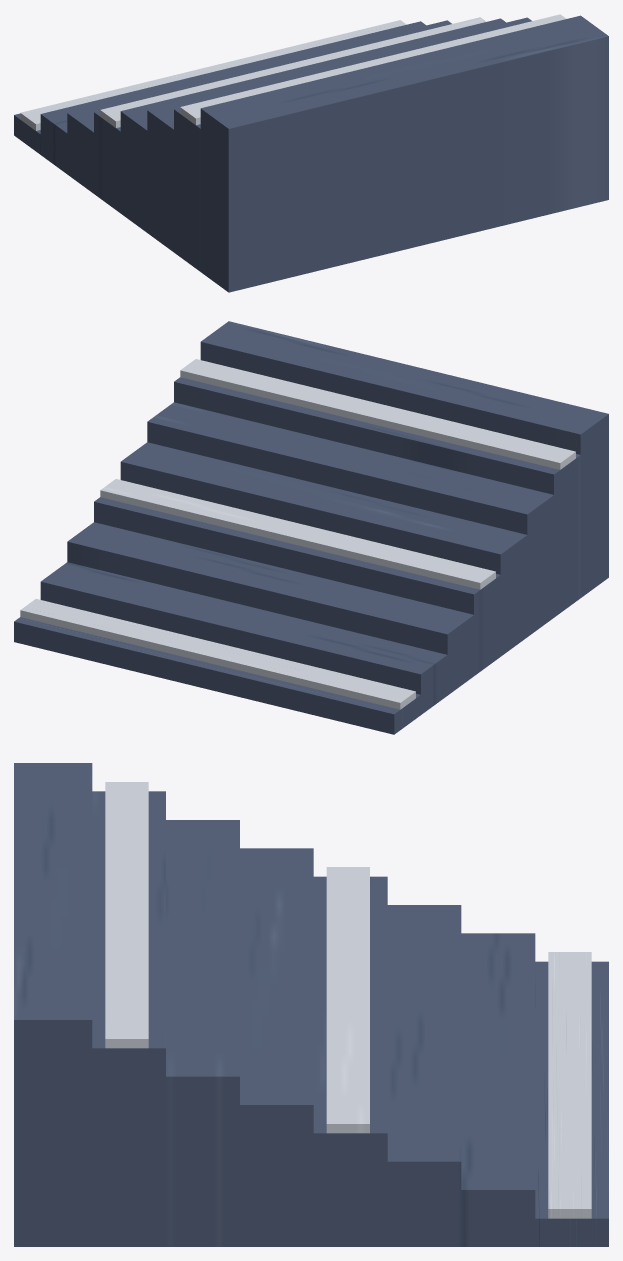
The model's file is snow_stairway_lod1.glb.
The picture shows the model from 3 angles, top to bottom: view 1: azimuth 30°, elevation 25°; view 2: azimuth 150°, elevation 25°; view 3: azimuth 270°, elevation 25°; orthographic projection. The views are drawn at different scales.
Visible parts, largest first — view 1: stone_10, stone_7, stone_6, stone_8, stone_3, stone_2, snow_1, snow_9, snow_5, stone_4, stone_0; view 2: stone_10, stone_7, stone_6, stone_3, stone_2, stone_8, stone_4, stone_0, snow_9, snow_5, snow_1; view 3: stone_10, stone_7, stone_6, stone_3, stone_2, stone_8, stone_4, snow_1, snow_9, snow_5, stone_0.
Part boxes in pixels (x1,y1,x2,y2): stone_10: (200,15,608,292); stone_7: (147,17,531,252); stone_6: (120,18,505,233); stone_8: (174,108,201,272); stone_3: (67,20,451,194); stone_2: (40,21,425,175); snow_1: (20,20,406,130); snow_9: (180,14,566,125); snow_5: (100,17,486,127); stone_4: (94,110,122,213); stone_0: (14,113,42,155); stone_10: (200,321,608,597); stone_7: (147,402,555,635); stone_6: (120,442,528,655); stone_3: (67,522,475,694); stone_2: (40,562,448,714); stone_8: (174,377,580,616); stone_4: (94,497,502,674); stone_0: (14,617,422,734); snow_9: (180,359,575,469); snow_5: (100,479,495,589); snow_1: (20,599,415,709); stone_10: (14,763,92,1246); stone_7: (161,820,239,1246); stone_6: (235,848,313,1246); stone_3: (383,905,461,1246); stone_2: (457,933,535,1246); stone_8: (87,791,165,1246); stone_4: (309,876,387,1246); snow_1: (548,952,591,1218); snow_9: (105,782,148,1048); snow_5: (326,867,369,1133); stone_0: (530,961,608,1246).
Bounding box in the file's own units: 7 × 2.88 × 6.85.
Materials: 2 (2 with a texture image).
